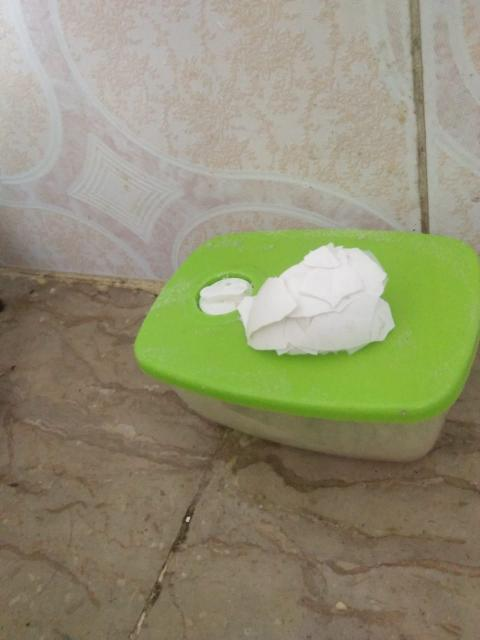Roto: (240, 240, 396, 356)
